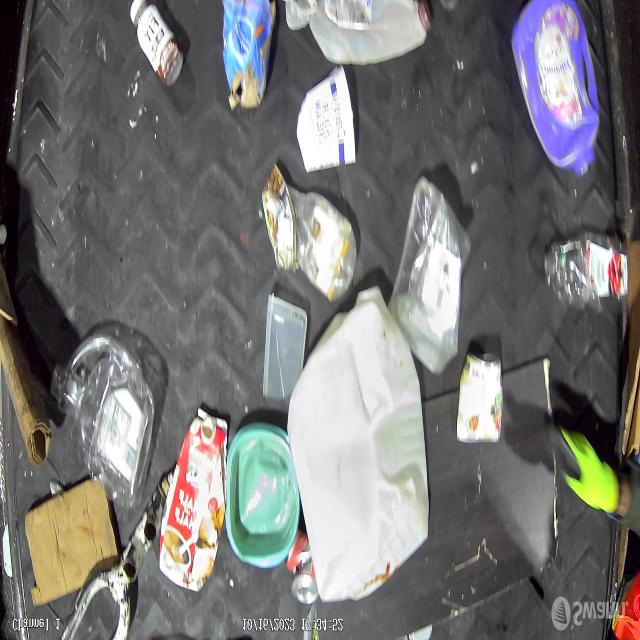can: (257, 172, 295, 273), (457, 365, 502, 442), (290, 529, 315, 609)
milk_jug: (290, 285, 429, 604)
non_white_jug: (516, 7, 594, 186)
plastic_bottle: (296, 185, 358, 293)
